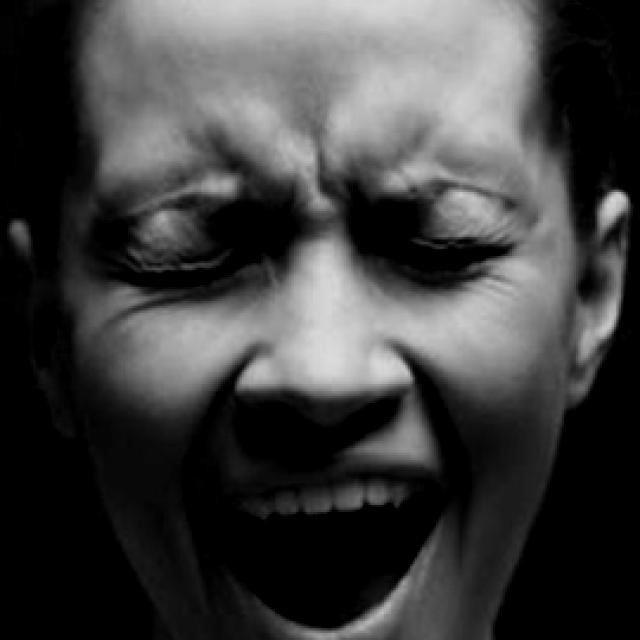real: (60, 3, 580, 640), (88, 192, 522, 308)
